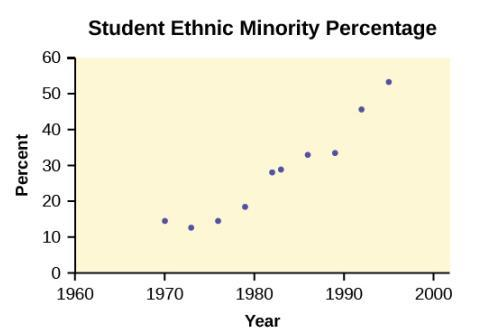axis: (65, 268, 453, 282), (65, 53, 81, 283)
point: (383, 77, 395, 88), (239, 203, 252, 213), (329, 147, 340, 158), (265, 167, 277, 177), (277, 163, 287, 175), (355, 104, 367, 114), (212, 216, 225, 225), (303, 149, 313, 160), (186, 223, 198, 232), (160, 215, 170, 225)
